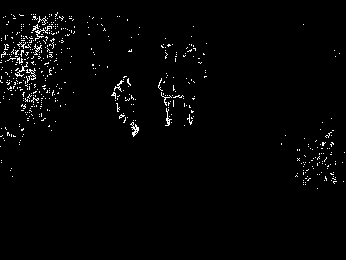person: (108, 72, 140, 138), (158, 69, 178, 128), (178, 75, 200, 127)
